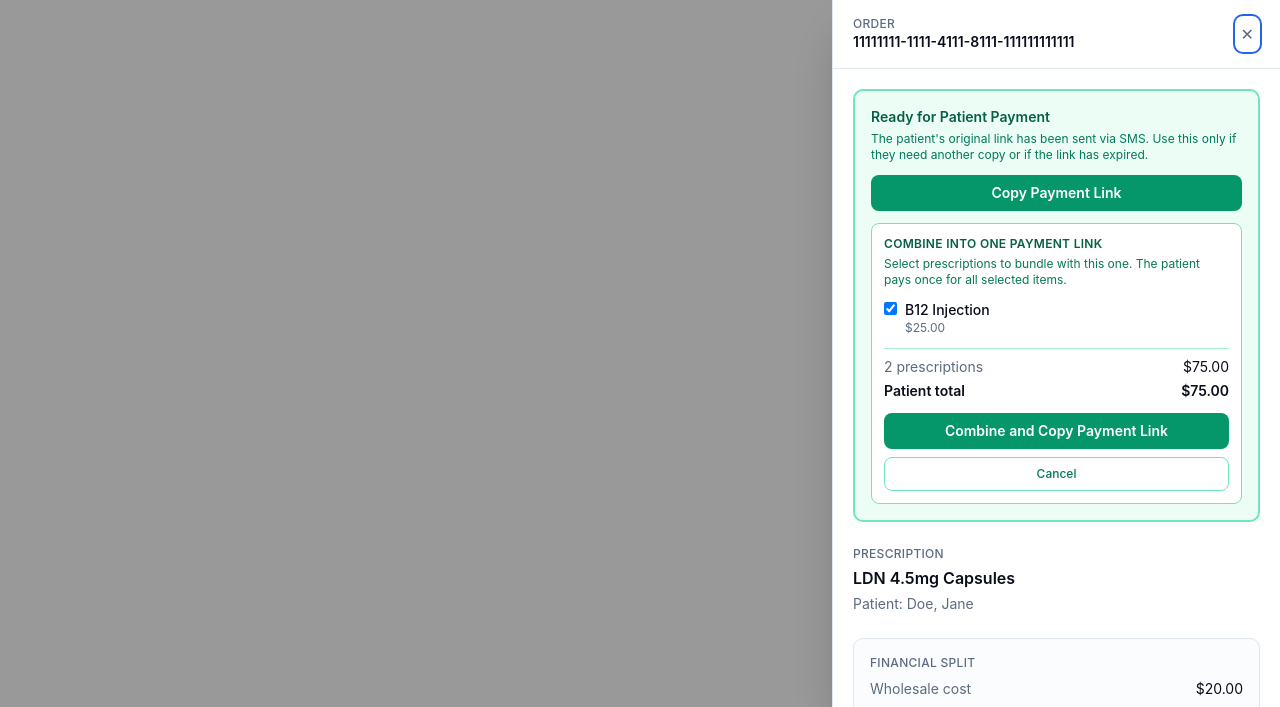
Test case: <OrderDrawer /> post-combine group state › still reports the group when the clipboard write fails (group exists server-side)
Check: the text "Combine into one payment link" is shown, box [884,236,1102,251]
Click the button "Combine and Copy Payment Link" at (1056, 431), box [884,413,1229,449]
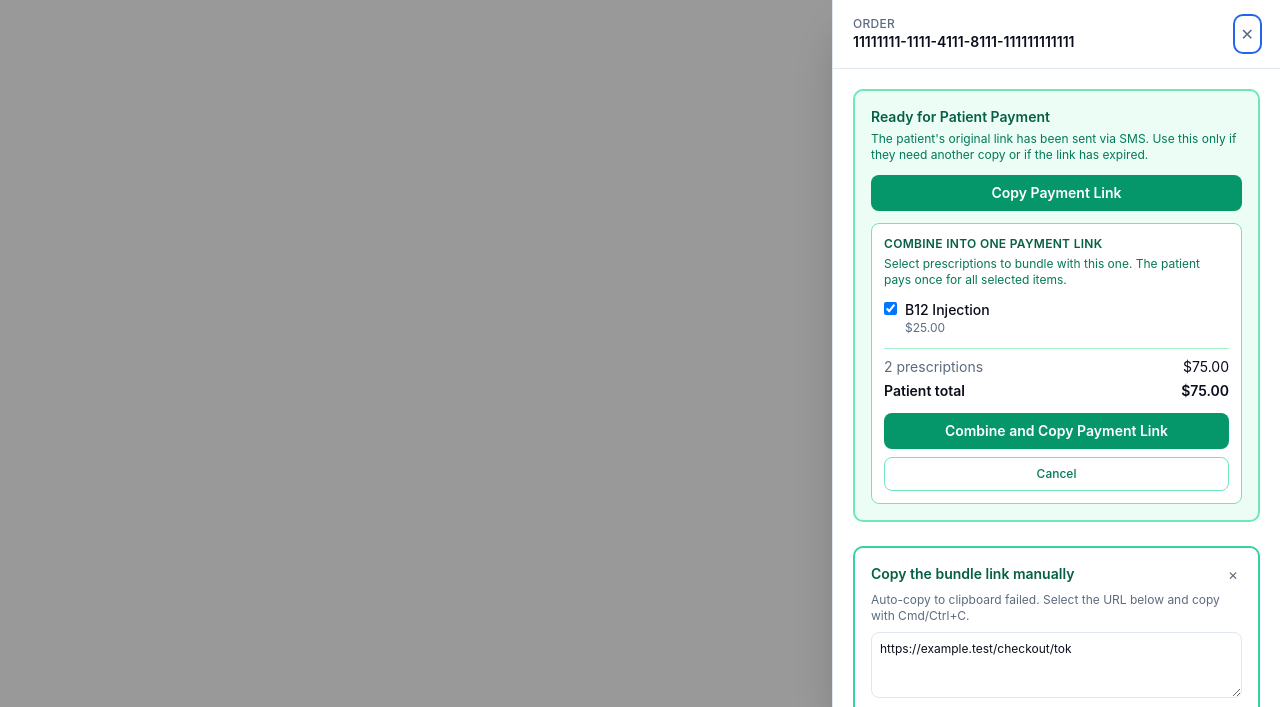
Check: the text "Copy the bundle link manually" is shown, box [871,564,1074,584]
